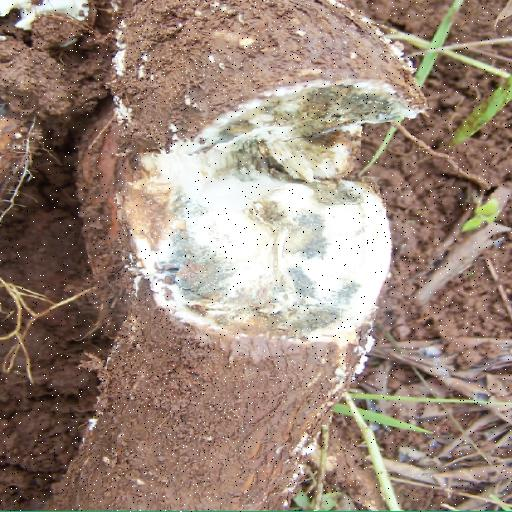Cassava_Root_Rot: (70, 2, 491, 378)
